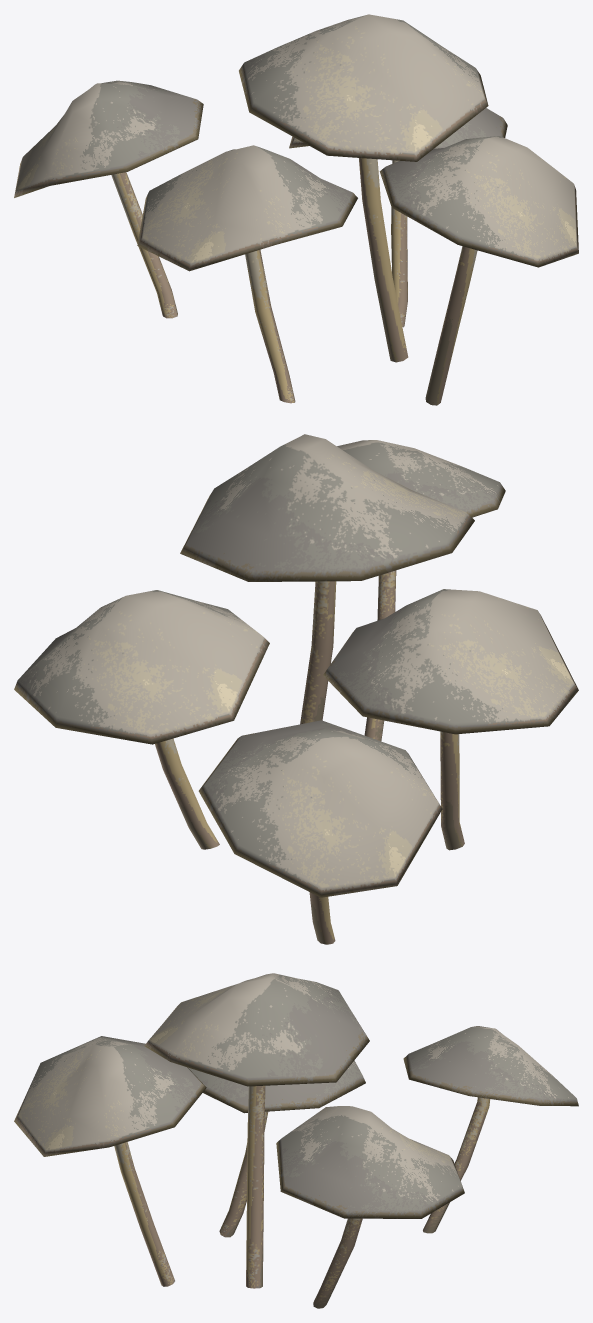
Rendered from Mushroom_Common__go_coast.glb.
The picture shows the model from 3 angles, top to bottom: view 1: azimuth 30°, elevation 25°; view 2: azimuth 150°, elevation 25°; view 3: azimuth 270°, elevation 25°; orthographic projection. The views are drawn at different scales.
Visible parts, largest first — view 1: Mushroom_Common; view 2: Mushroom_Common; view 3: Mushroom_Common.
Boxes of the visible parts, x1,y1,x2,y2 form: Mushroom_Common: (14,14,578,405); Mushroom_Common: (14,434,578,944); Mushroom_Common: (14,973,578,1308).
Bounding box in the file's own units: 0.5637 × 0.4635 × 0.7791.
1 material, 1 textured.
